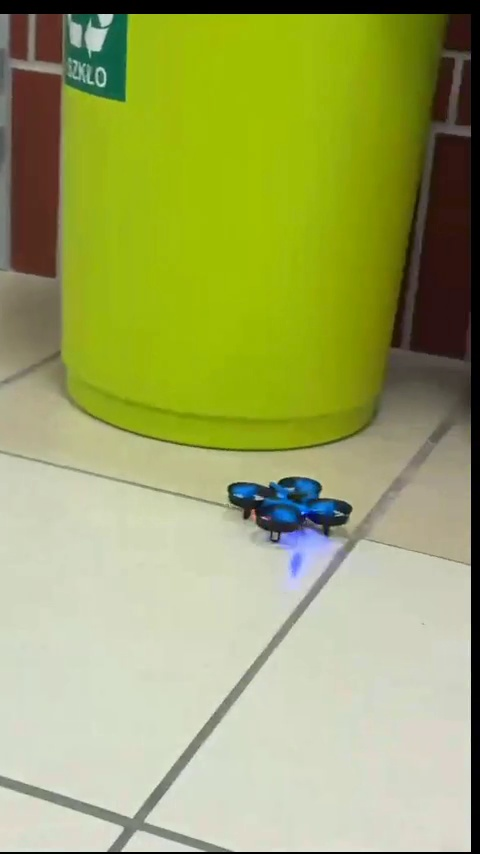drone: (226, 474, 360, 543)
